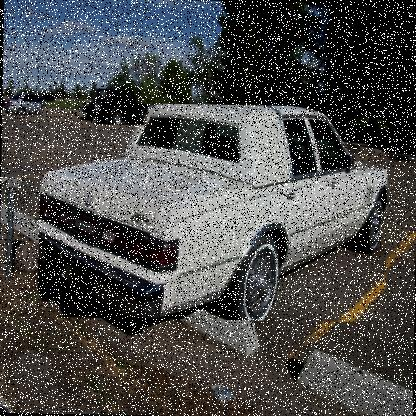Car: (37, 101, 389, 323), (93, 88, 148, 125), (5, 88, 60, 114), (2, 86, 17, 114), (40, 93, 54, 100), (2, 98, 6, 106)
